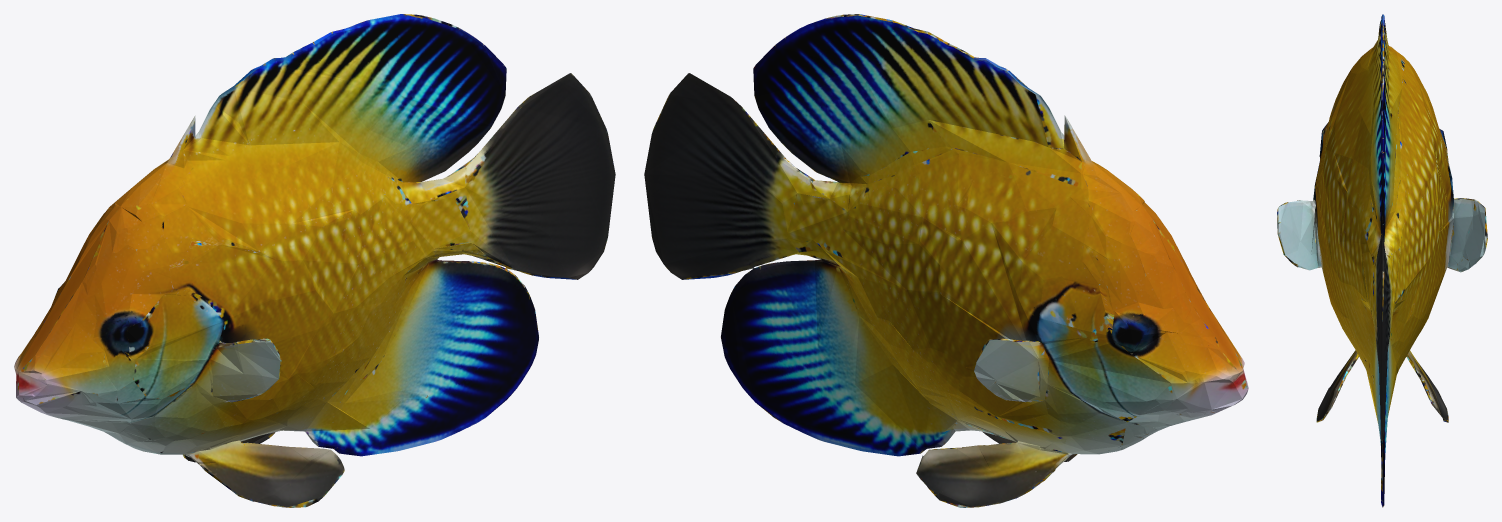
File: fish_0099_smpl23_resized.glb
The picture shows the model from 3 angles, left to right: view 1: azimuth 30°, elevation 25°; view 2: azimuth 150°, elevation 25°; view 3: azimuth 270°, elevation 25°; orthographic projection. The views are drawn at different scales.
Visible parts, largest first — view 1: world; view 2: world; view 3: world.
Boxes of the visible parts, x1,y1,x2,y2 form: world: (14,14,615,507); world: (644,14,1248,507); world: (1277,14,1487,507).
Size of the model in its own units: 1.99 by 1.39 by 0.6368.
Materials: 1 (1 with a texture image).
